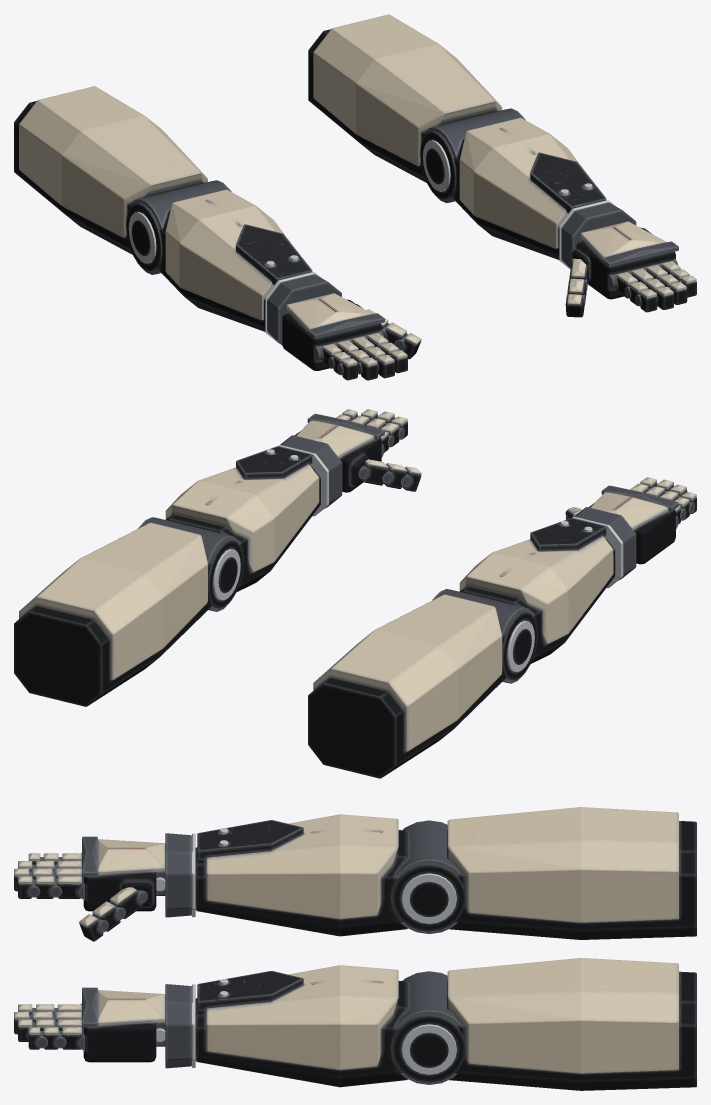
Rendered from arms.glb.
3 renders of one model, top to bottom at view 1: azimuth 30°, elevation 25°; view 2: azimuth 150°, elevation 25°; view 3: azimuth 270°, elevation 25°, orthographic. The views are drawn at different scales.
Visible parts, largest first — view 1: L_upper_shell, R_upper_shell, L_fore_shell, R_fore_shell, R_fore_top, L_fore_top, R_fore_cuff, R_palm, L_fore_cuff, L_upper_body, R_upper_body, R_back_plate (+12 smaller); view 2: R_upper_shell, L_upper_shell, R_upper_body, L_upper_body, R_fore_shell, L_fore_shell, L_fore_top, R_fore_top, R_fore_body, L_fore_body, R_palm, L_back_plate (+14 smaller); view 3: L_upper_shell, R_upper_shell, R_fore_shell, L_fore_shell, R_upper_body, L_upper_body, R_fore_body, L_fore_body, L_palm, R_fore_top, L_fore_top, L_back_plate (+14 smaller).
Part boxes in pixels (x1,y1,x2,y2): L_upper_shell: (313, 14, 502, 165); R_upper_shell: (19, 86, 207, 237); L_fore_shell: (459, 118, 585, 248); R_fore_shell: (165, 189, 291, 320); R_fore_top: (236, 224, 312, 285); L_fore_top: (530, 152, 606, 213); R_fore_cuff: (267, 274, 341, 345); R_palm: (282, 299, 381, 370); L_fore_cuff: (561, 202, 636, 268); L_upper_body: (308, 29, 497, 182); R_upper_body: (14, 101, 203, 254); R_back_plate: (286, 293, 372, 330); R_upper_shell: (313, 594, 502, 751); L_upper_shell: (19, 522, 207, 679); R_upper_body: (308, 635, 506, 778); L_upper_body: (14, 563, 211, 706); R_fore_shell: (459, 536, 613, 644); L_fore_shell: (165, 464, 319, 572); L_fore_top: (236, 446, 312, 479); R_fore_top: (530, 518, 606, 551); R_fore_body: (460, 539, 615, 663); L_fore_body: (166, 467, 320, 591); R_palm: (589, 503, 675, 564); L_back_plate: (296, 420, 374, 458); L_upper_shell: (447, 958, 678, 1073); R_upper_shell: (447, 807, 678, 922); R_fore_shell: (206, 814, 398, 919); L_fore_shell: (206, 965, 398, 1070); R_upper_body: (447, 821, 696, 939); L_upper_body: (447, 971, 696, 1090); R_fore_body: (195, 830, 407, 936); L_fore_body: (195, 981, 407, 1087); L_palm: (83, 1023, 156, 1062); R_fore_top: (197, 820, 303, 860); L_fore_top: (197, 971, 303, 1010); L_back_plate: (97, 990, 165, 1026).
Size of the model in its own units: 0.538 by 0.1242 by 0.7654.
6 materials, 6 textured.
